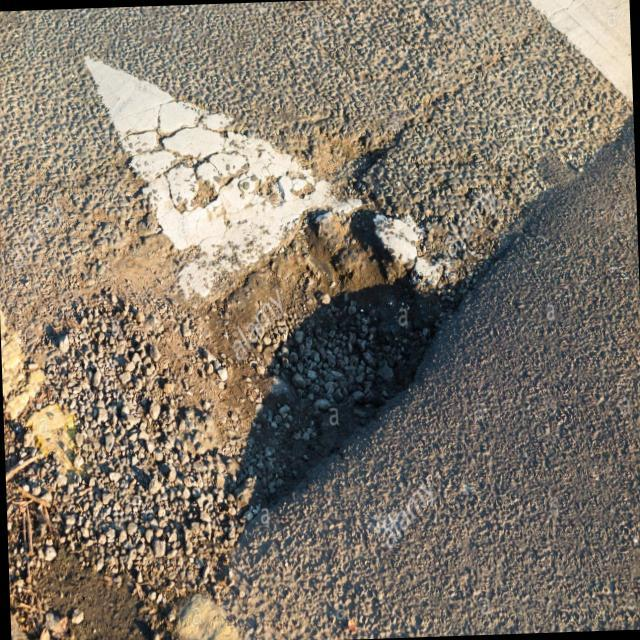Pothole: (0, 222, 480, 632)
